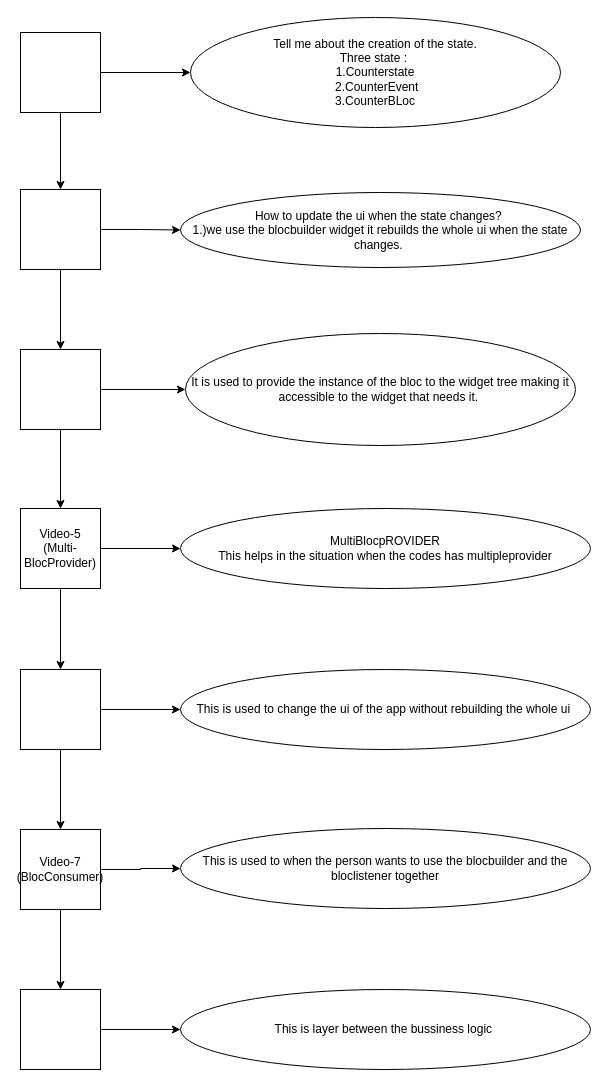
This 608x1087 diagram has some shape labels left out. Here are the shapes that lost their labels. From the top down, the box of each, then its label:
(20, 32, 100, 112): Video-2
(20, 188, 100, 270): Video-3 (BlocBuilder)
(20, 348, 100, 430): Video-4 (BlocProvider)
(20, 668, 100, 750): Video-6 (BlocListener)
(20, 988, 100, 1070): Video-8 (Repository in Bloc)
